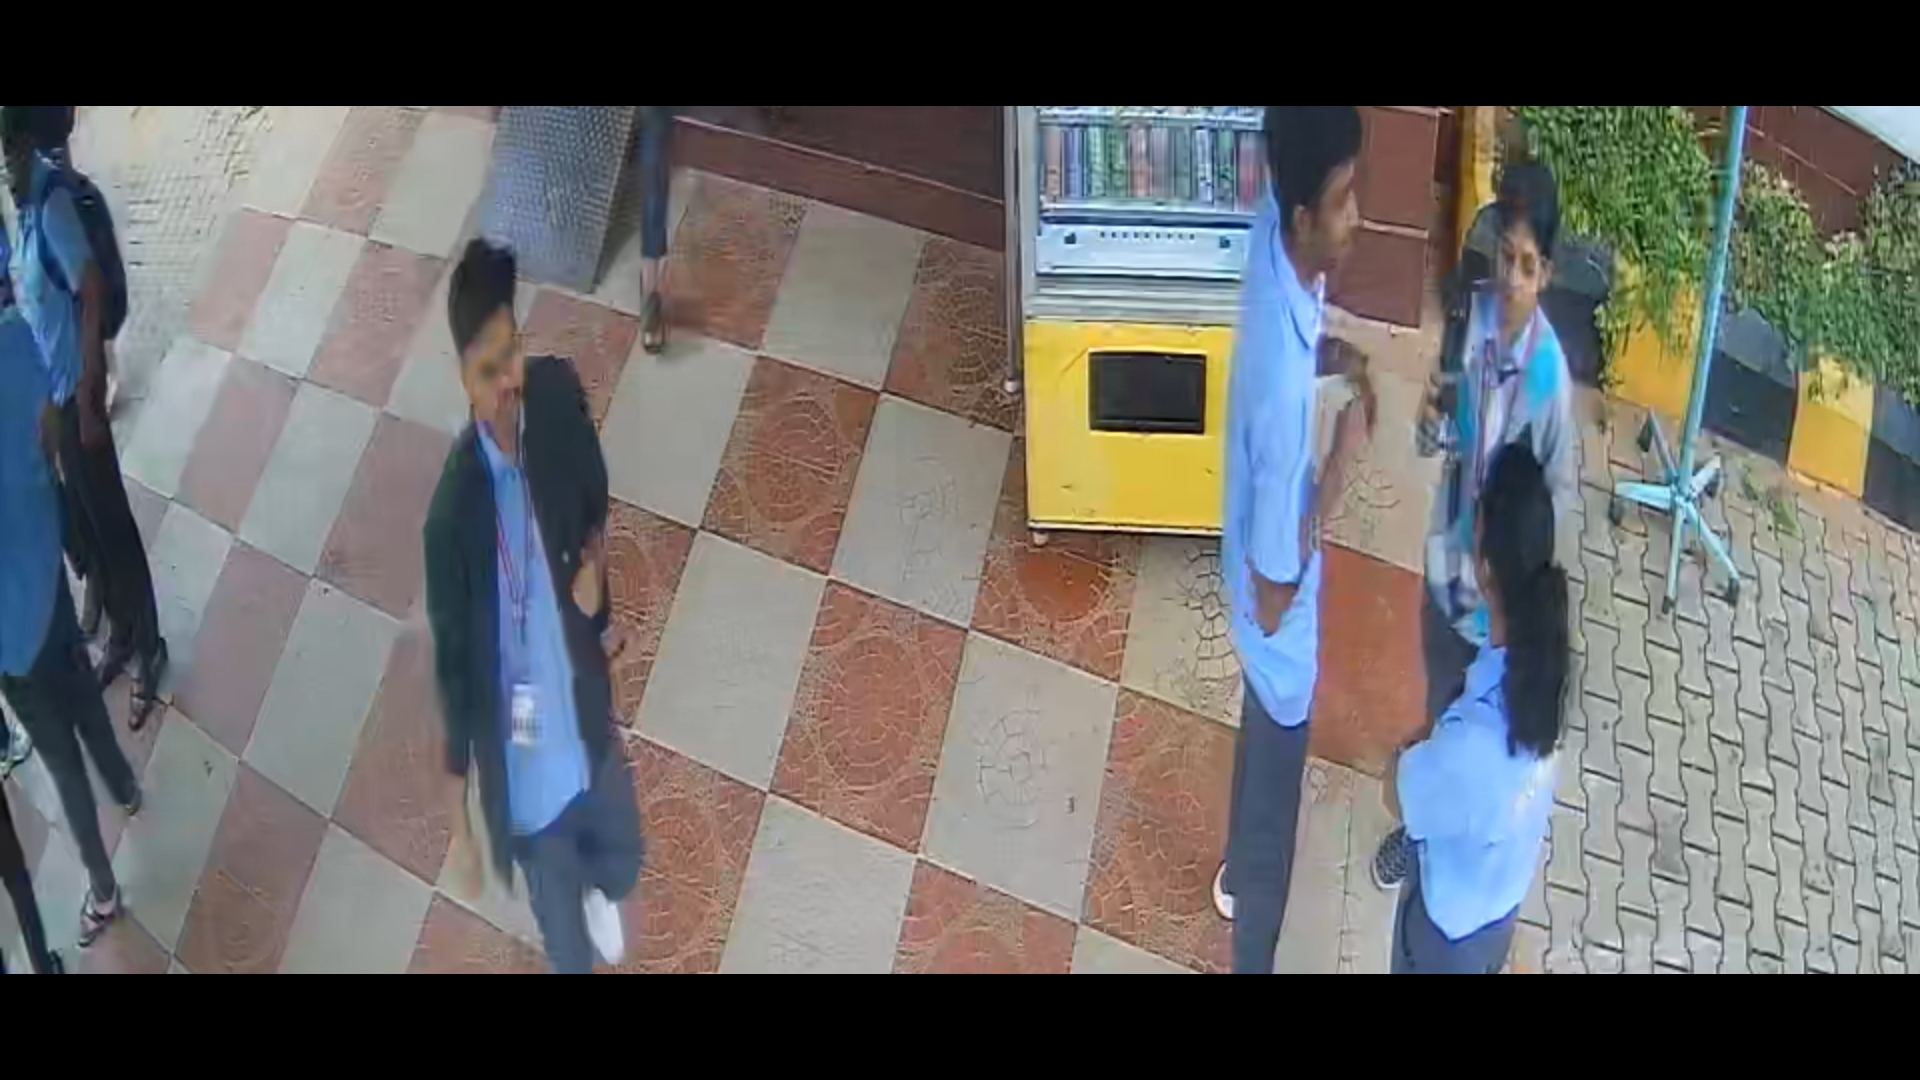not intruder: (415, 231, 651, 975)
